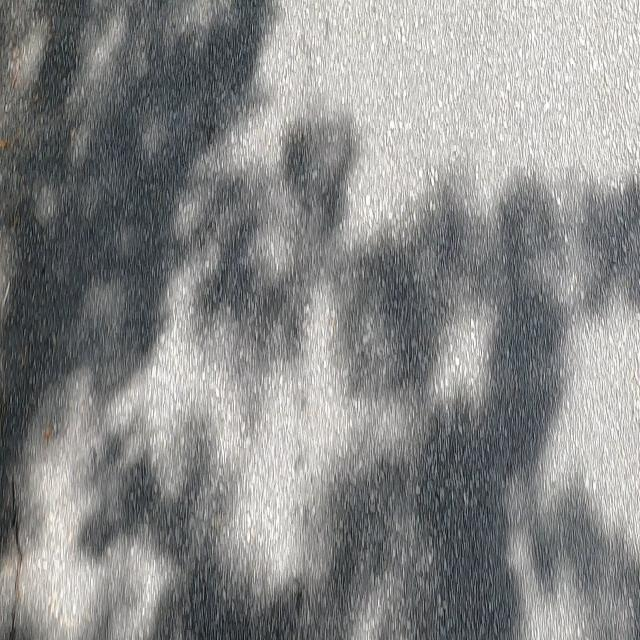Retak-Memanjang: (8, 473, 26, 638)
